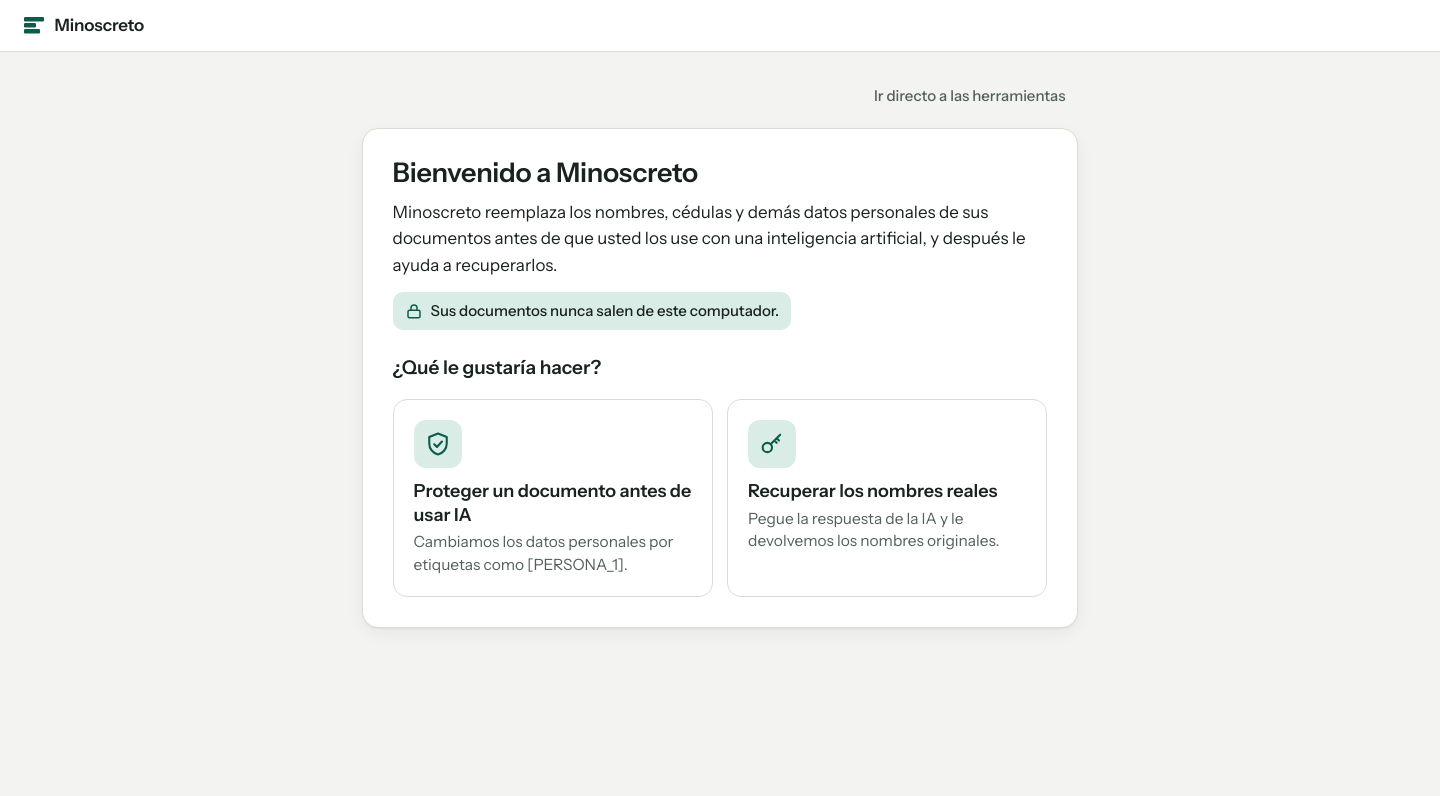
Test case: bienvenida guiada › documento corto: «Ver primero un ejemplo» muestra el contrato de ejemplo
Click the button "Proteger un documento".
click(553, 498)  # box [393,399,713,597]
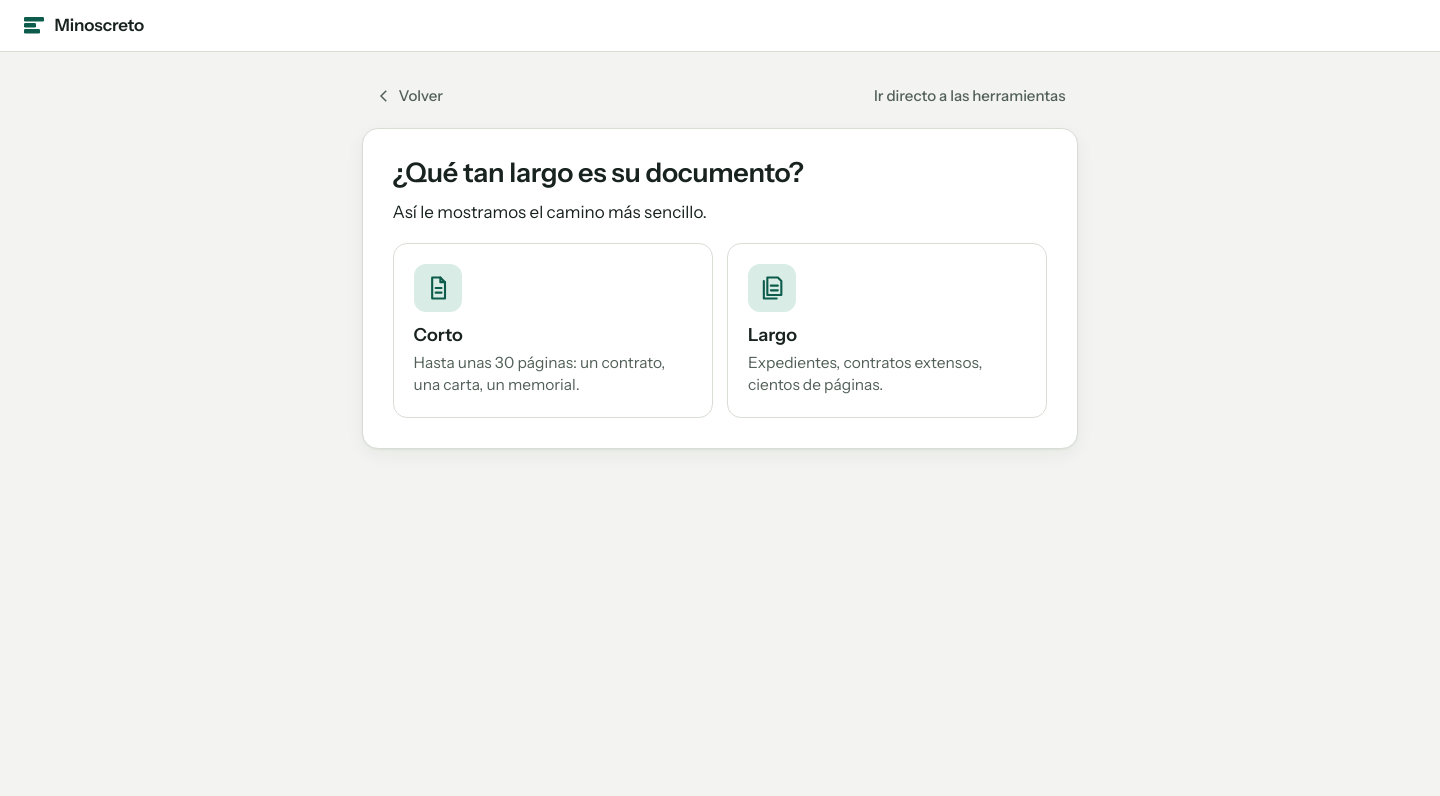
Click the button "Corto".
click(438, 288)  # box [393,243,713,418]
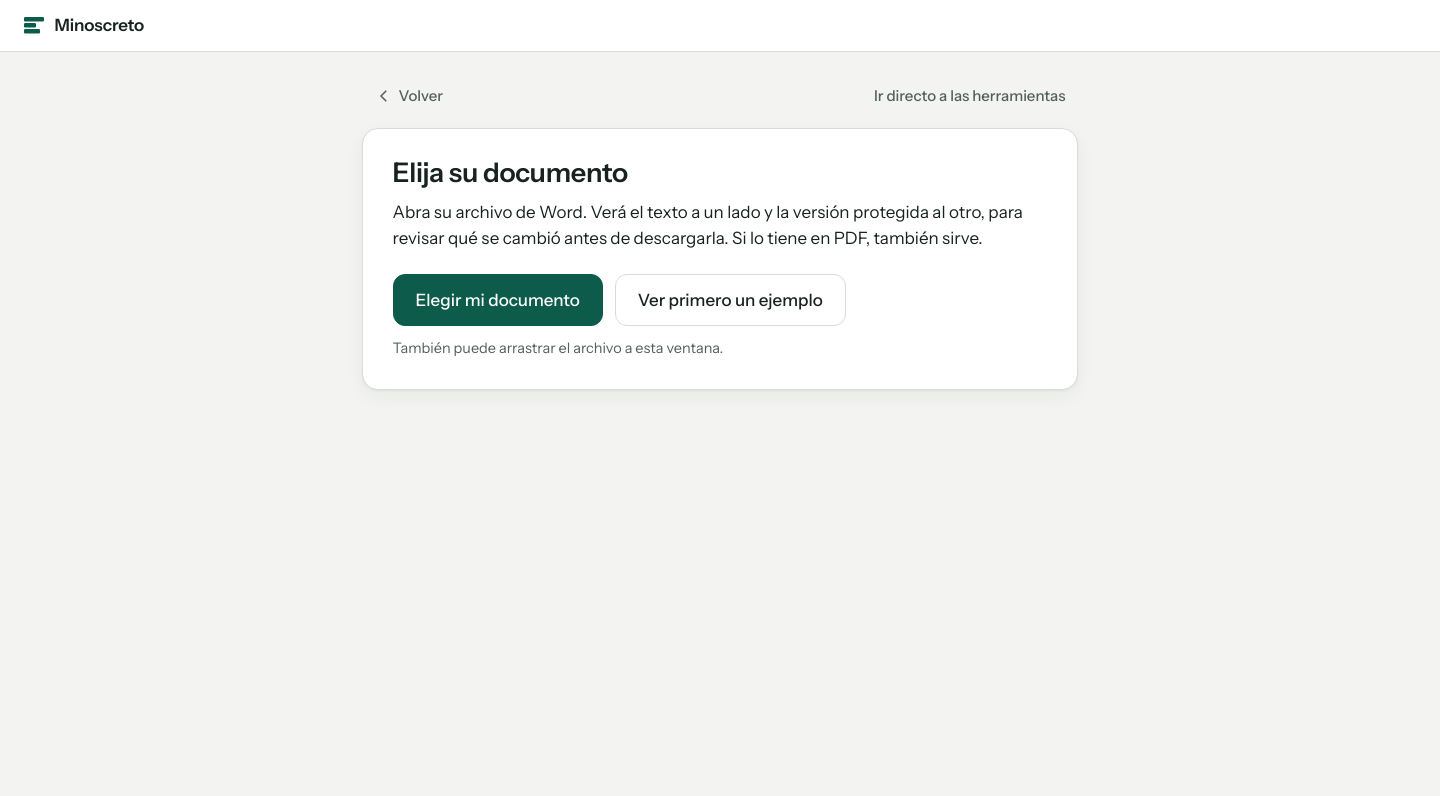
Click the button "Ver primero un ejemplo".
click(730, 300)  # box [615,274,846,326]
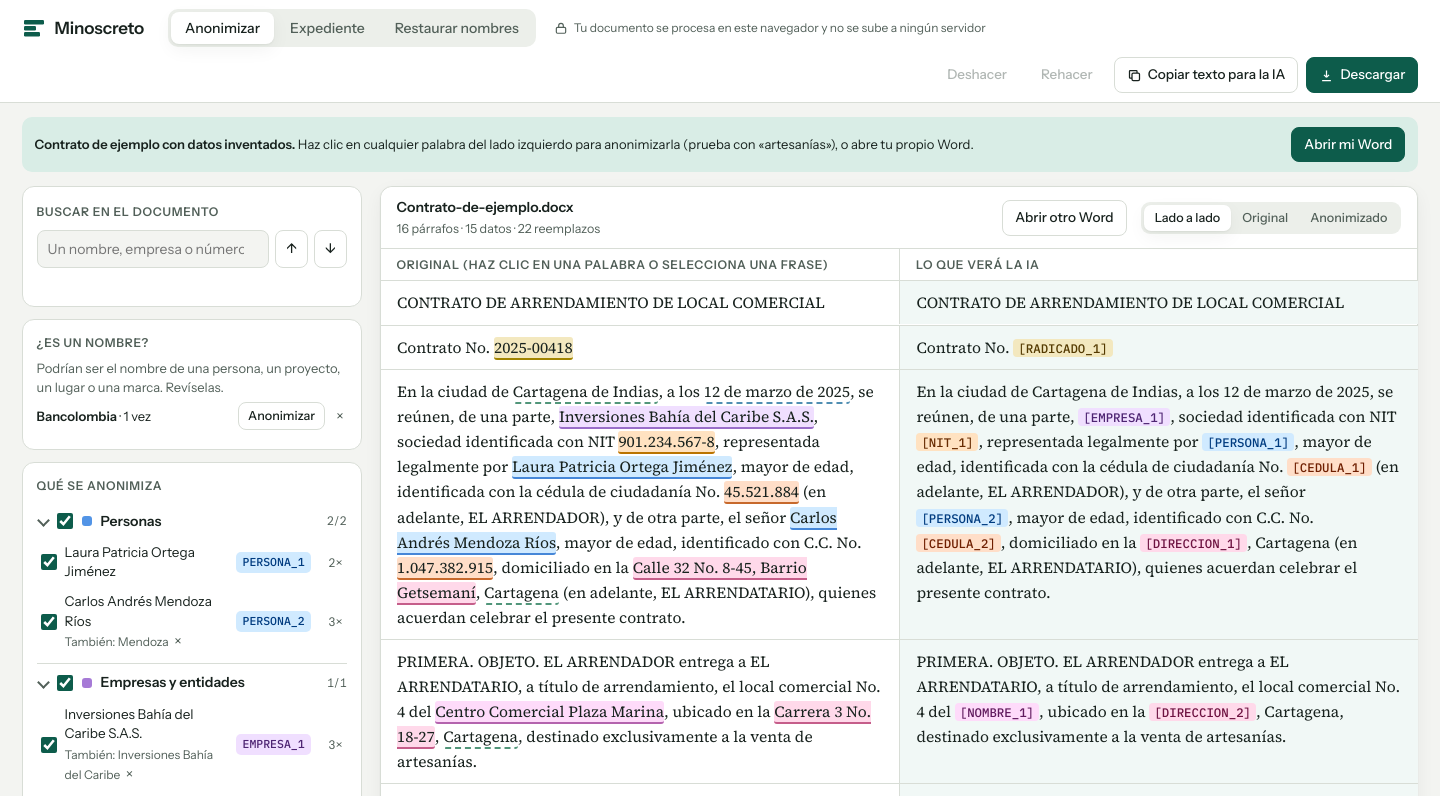
Expected: the text "Contrato de ejemplo" is shown, [35,136,295,152]
